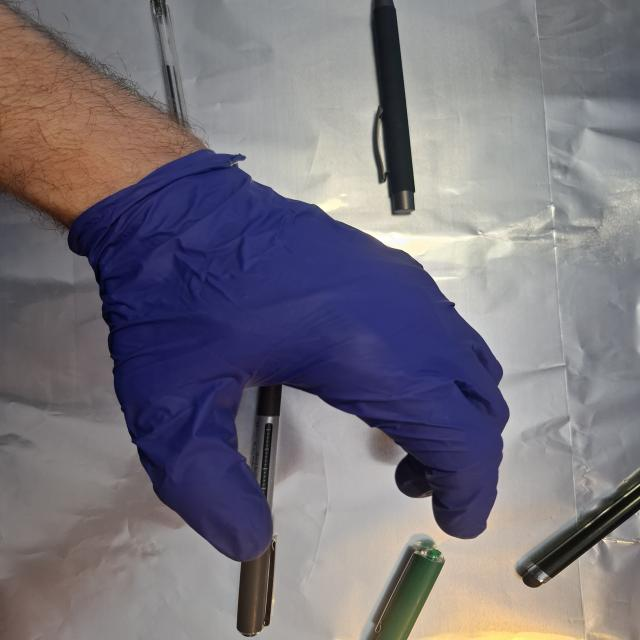glove_on: (72, 146, 515, 566)
